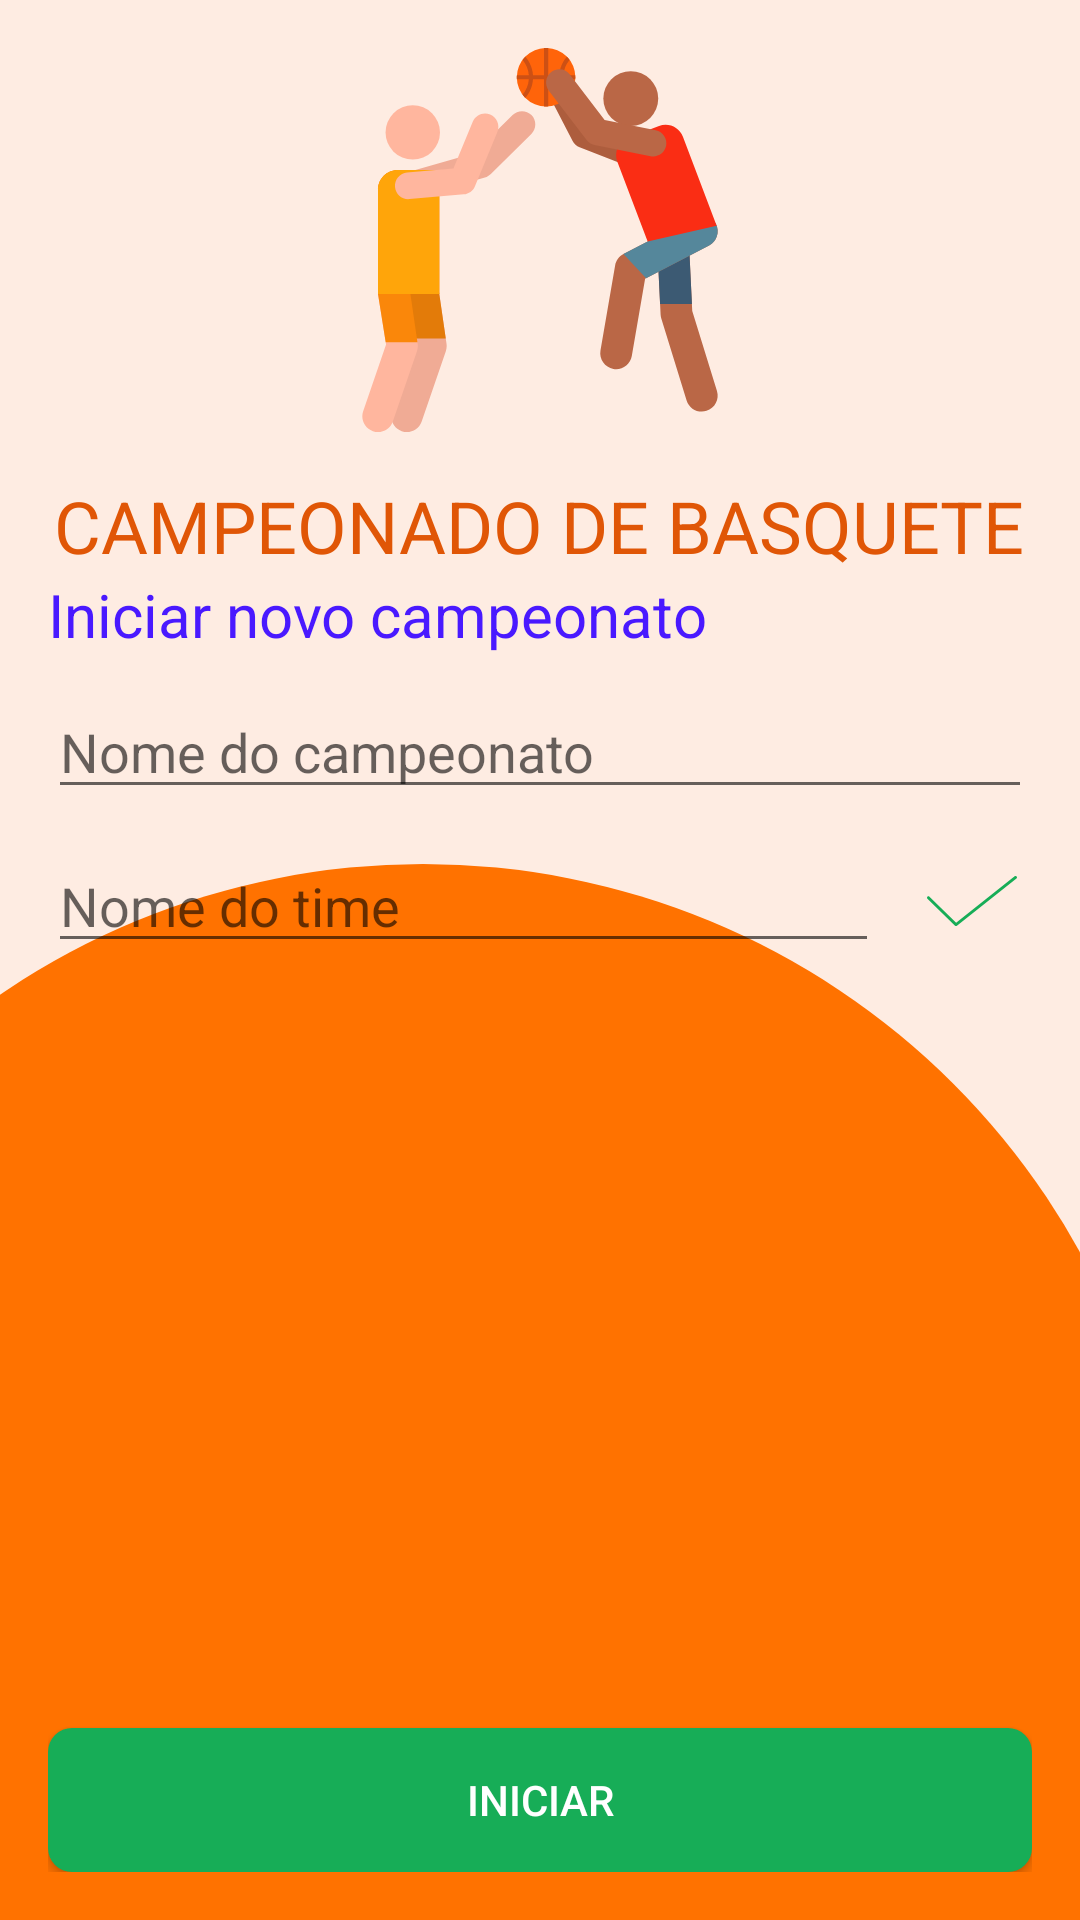

Screen size 1080×1920. Icon name, then its box in pixels as [left=x1, top=y1, right=x2, bottom=y2]:
check: [left=927, top=876, right=1017, bottom=926]
